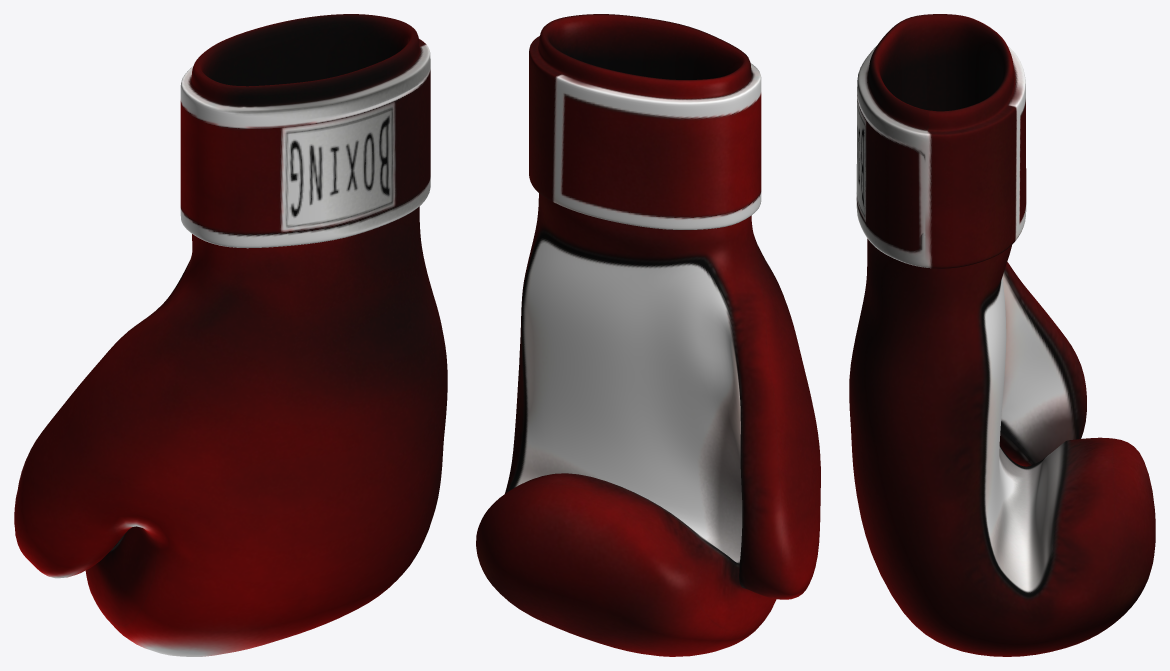
The model's file is Leather_Boxing_Gloves_Left.fbx.
The picture shows the model from 3 angles, left to right: view 1: azimuth 30°, elevation 25°; view 2: azimuth 150°, elevation 25°; view 3: azimuth 270°, elevation 25°; orthographic projection. The views are drawn at different scales.
Parts seen in each view (by area): view 1: Leather_Boxing_Gloves_Left; view 2: Leather_Boxing_Gloves_Left; view 3: Leather_Boxing_Gloves_Left.
Part boxes in pixels (x1,y1,x2,y2): Leather_Boxing_Gloves_Left: (14, 14, 447, 656); Leather_Boxing_Gloves_Left: (476, 14, 820, 656); Leather_Boxing_Gloves_Left: (849, 14, 1155, 656).
Bounding box in the file's own units: 31.97 × 50.65 × 24.03.
Materials: 1 (1 with a texture image).
